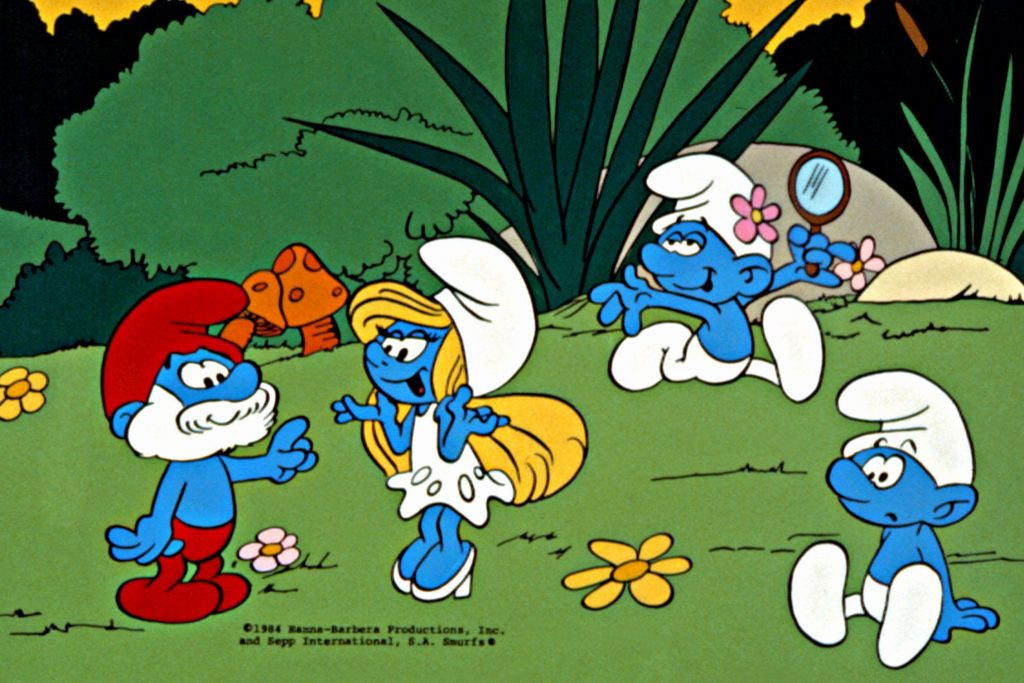smurf: (330, 236, 590, 601), (100, 273, 318, 626), (787, 362, 1001, 672), (586, 158, 826, 405)
